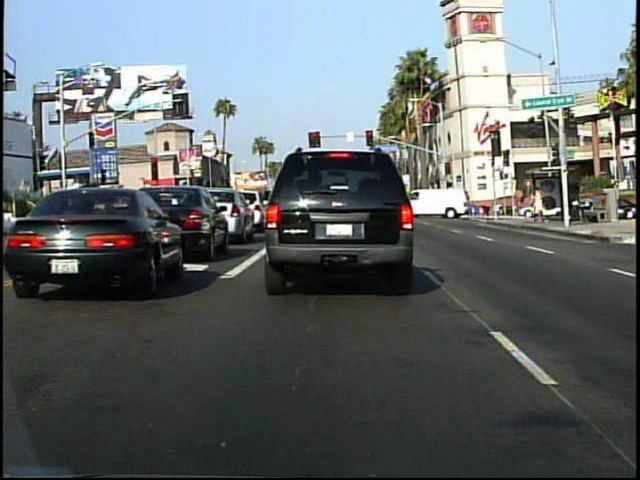person: (529, 183, 547, 225)
